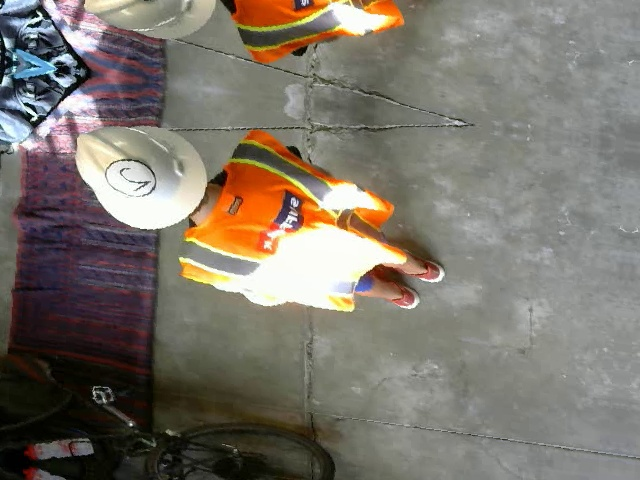two: (101, 155, 156, 200)
